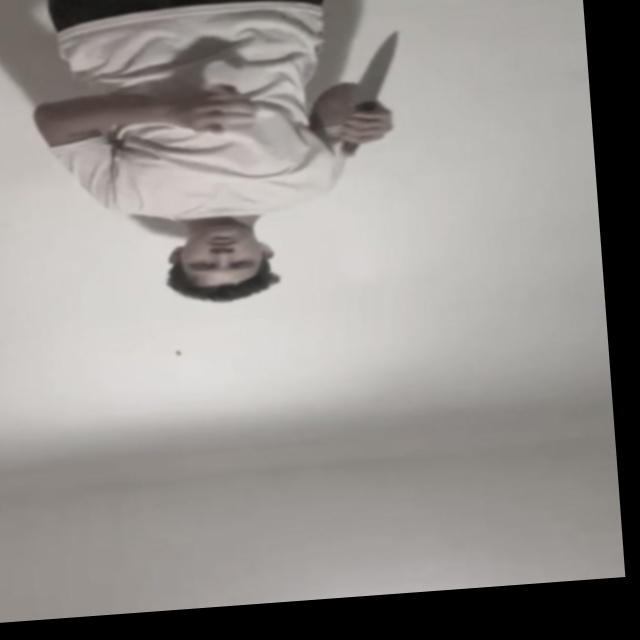Sharp-Object: (347, 32, 404, 110)
